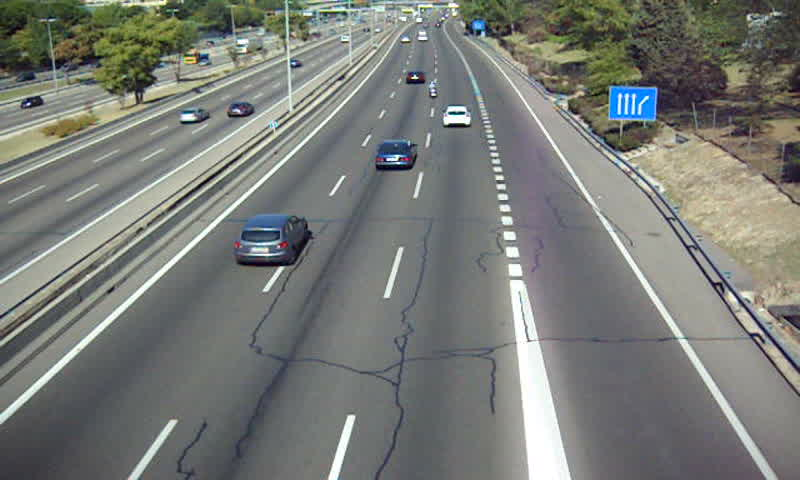car: (235, 214, 307, 265), (374, 139, 417, 170), (442, 105, 471, 129), (403, 70, 426, 86)
motorcycle: (428, 81, 439, 99)
